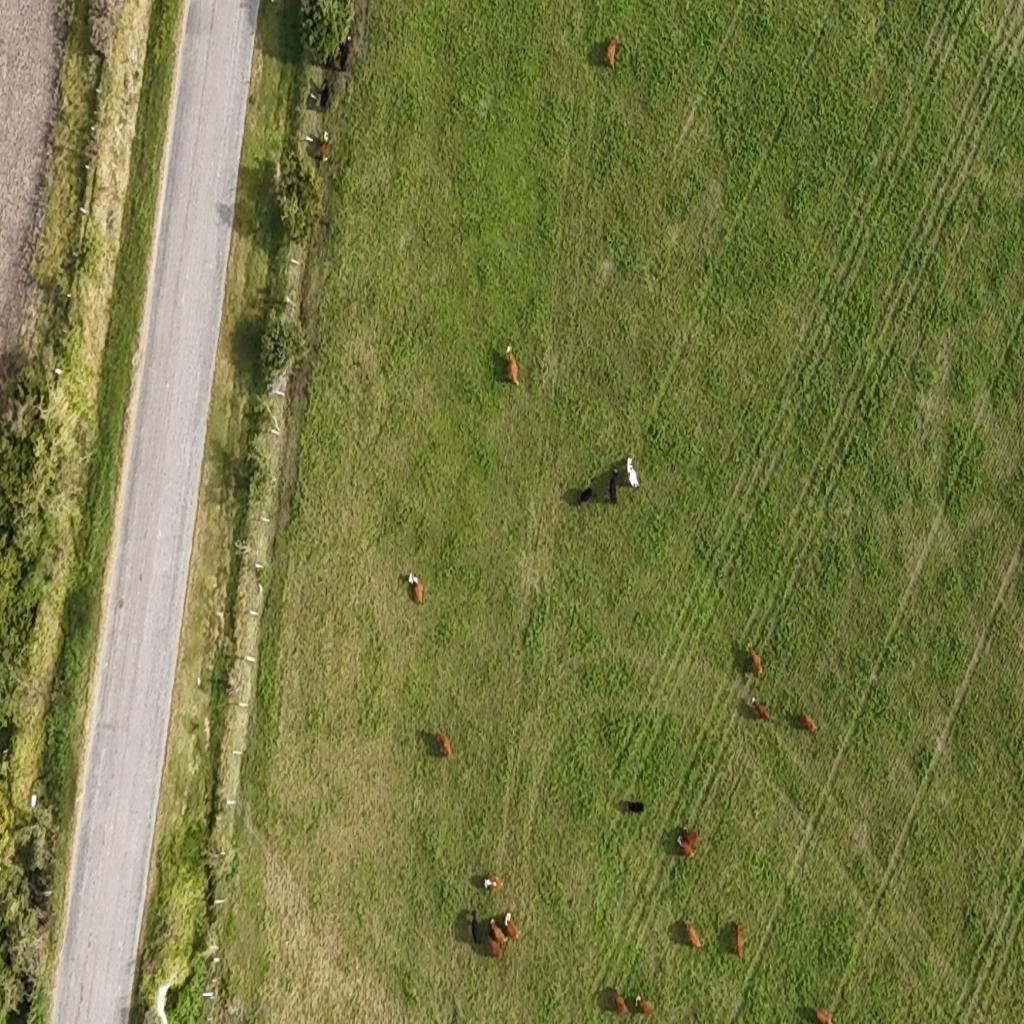cow: (498, 342, 524, 388), (593, 33, 621, 69), (426, 729, 452, 759), (484, 932, 506, 967), (620, 455, 641, 491), (743, 641, 759, 679), (578, 478, 598, 506), (490, 916, 508, 946), (478, 872, 504, 892), (685, 919, 702, 949), (620, 797, 648, 815), (336, 36, 350, 72), (502, 911, 519, 940), (677, 835, 695, 862), (408, 574, 424, 604), (797, 712, 817, 735), (635, 995, 654, 1017), (753, 697, 769, 723), (614, 990, 628, 1017), (319, 79, 331, 110), (471, 909, 481, 945), (608, 467, 618, 503), (735, 921, 744, 958), (682, 826, 700, 844), (320, 130, 330, 160), (817, 1007, 834, 1024), (489, 916, 496, 931)
